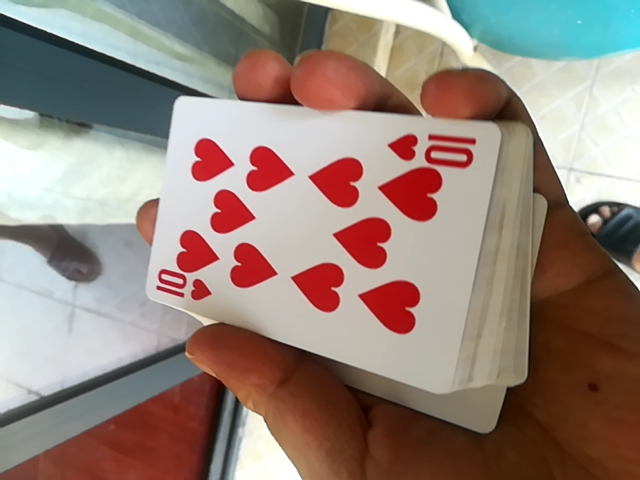hx 10: (127, 100, 465, 447)
